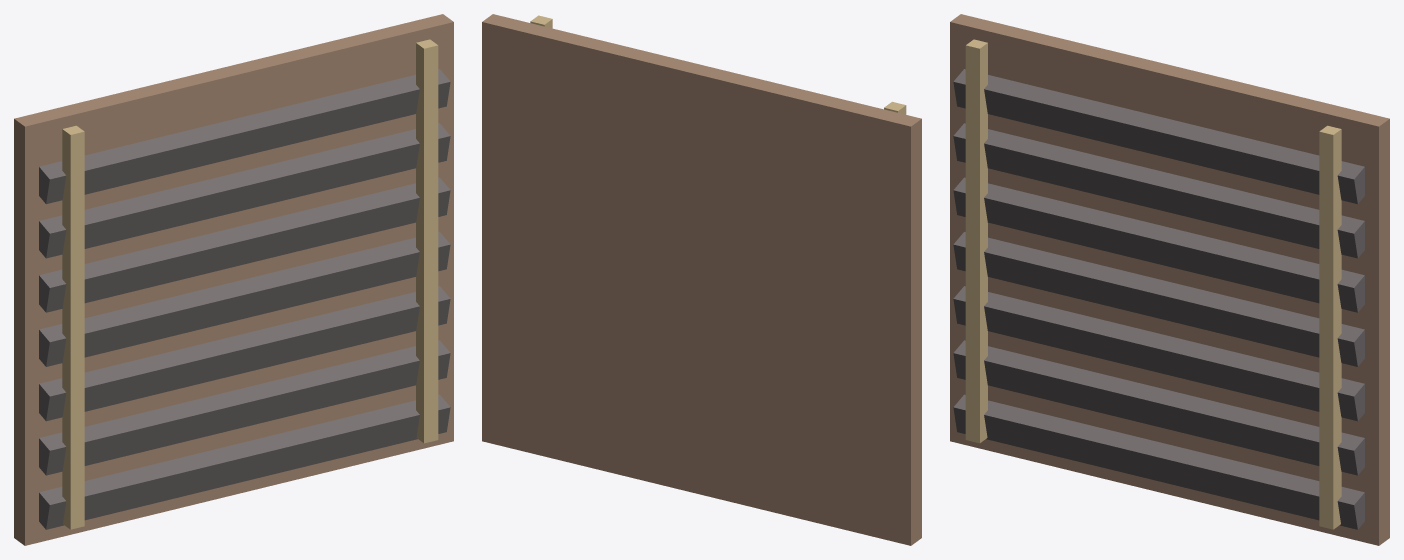
Rendered from slatted_window_shutter.glb.
3 renders of one model, left to right at view 1: azimuth 30°, elevation 25°; view 2: azimuth 150°, elevation 25°; view 3: azimuth 330°, elevation 25°, orthographic.
Visible parts, largest first — view 1: box_0, box_1, box_3, box_7, box_2, box_5, box_4, box_6, box_9, box_8; view 2: box_0; view 3: box_0, box_1, box_3, box_7, box_2, box_5, box_4, box_6, box_8, box_9.
Part boxes in pixels (left/top/right/bottom): box_0: left=14, top=14, right=453, bottom=545; box_1: left=39, top=394, right=450, bottom=529; box_3: left=39, top=286, right=450, bottom=421; box_7: left=39, top=69, right=450, bottom=204; box_2: left=39, top=340, right=450, bottom=475; box_5: left=39, top=177, right=450, bottom=312; box_4: left=39, top=232, right=450, bottom=366; box_6: left=39, top=123, right=450, bottom=258; box_9: left=416, top=39, right=438, bottom=443; box_8: left=62, top=125, right=84, bottom=529; box_0: left=482, top=14, right=921, bottom=545; box_0: left=950, top=14, right=1389, bottom=545; box_1: left=953, top=394, right=1364, bottom=529; box_3: left=953, top=286, right=1364, bottom=421; box_7: left=953, top=69, right=1364, bottom=204; box_2: left=953, top=340, right=1364, bottom=475; box_5: left=953, top=177, right=1364, bottom=312; box_4: left=953, top=232, right=1364, bottom=366; box_6: left=953, top=123, right=1364, bottom=258; box_8: left=965, top=39, right=987, bottom=443; box_9: left=1319, top=125, right=1341, bottom=529.
Size of the model in its own units: 1.82 by 1.7 by 0.19.
